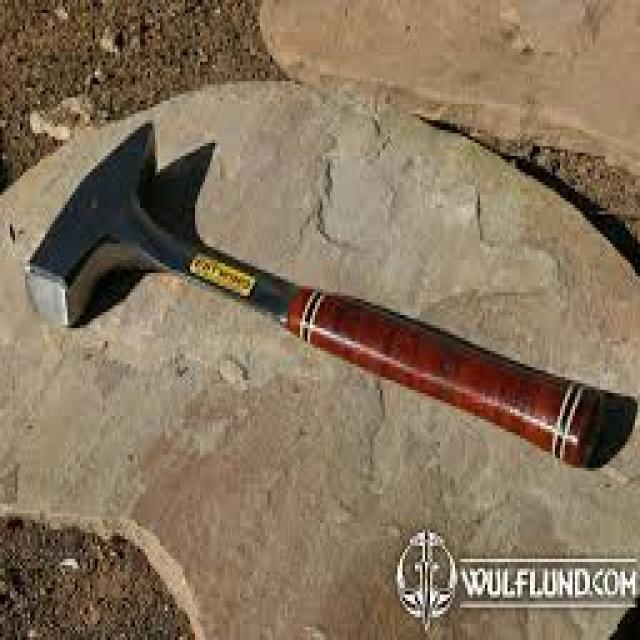hammer: (19, 115, 614, 485)
